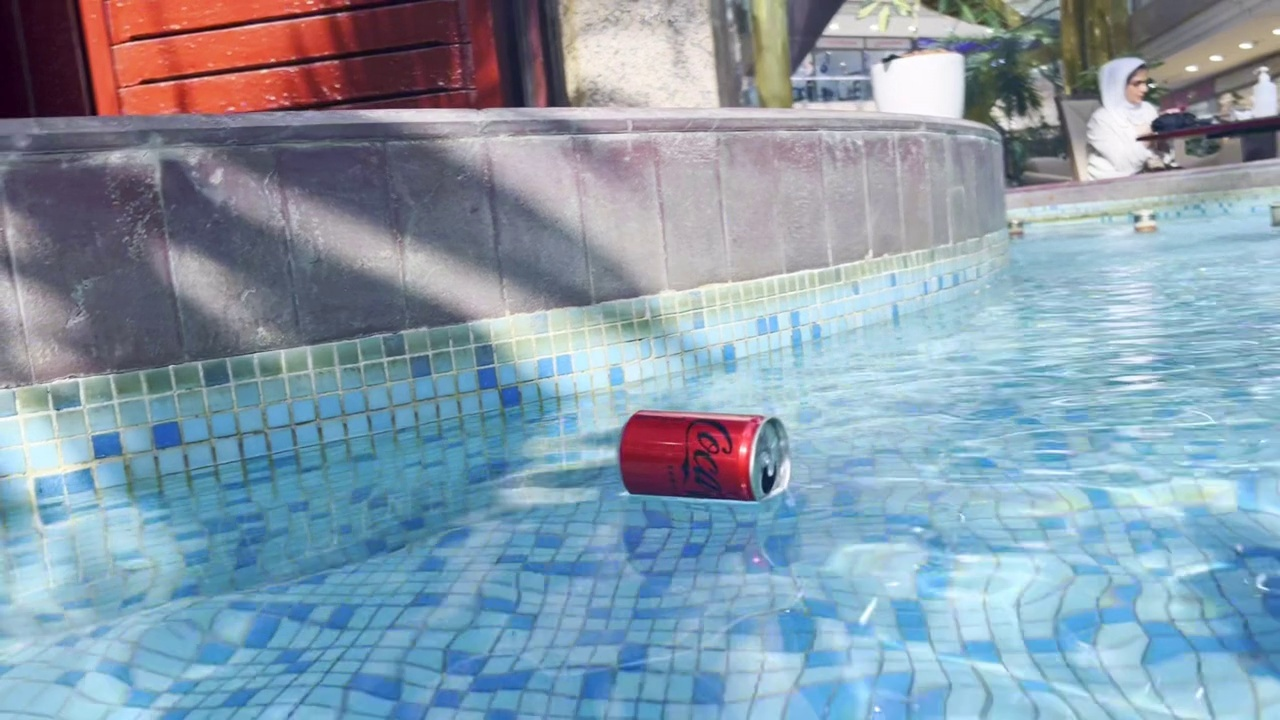debris: (611, 400, 799, 508)
